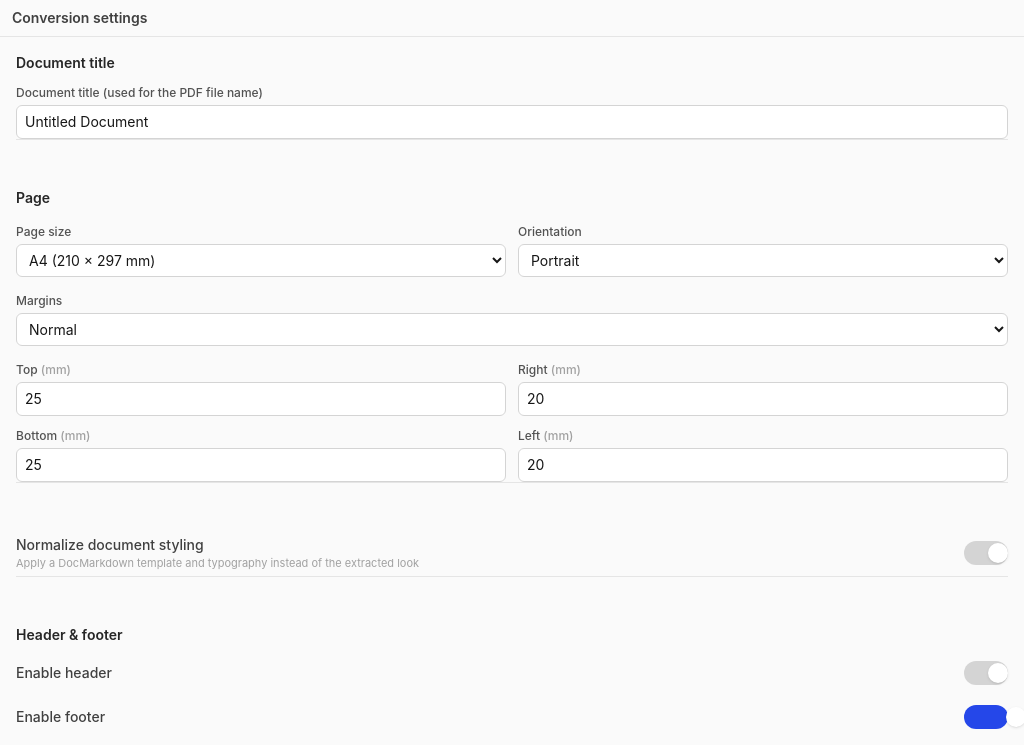
Scenario: WordSettingsPanel › hides template/typography controls until "Normalize document styling" is enabled
This screenshot has width=1024, height=745.
Expected: the field labelled "Font family" is not shown
What coordinates should you click on to do the following:
click the switch named "normalize document styling" in the row of "Normalize document styling"
I would click on:
 (986, 553)
Its box is [964,541,1008,565].
(page scrolled)
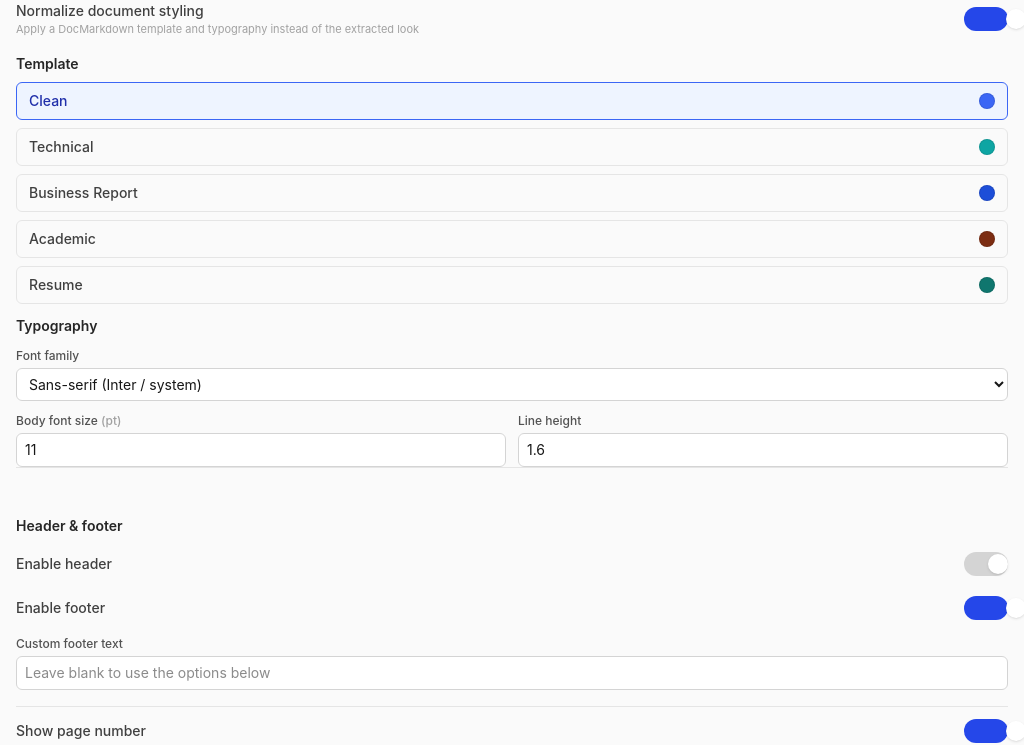
Expected: the heading "Template" is shown, [16,54,79,72]
Expected: the dropdown labelled "Font family" is shown, [16,368,1008,400]
